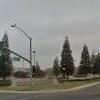Tree: (56, 26, 100, 84)
